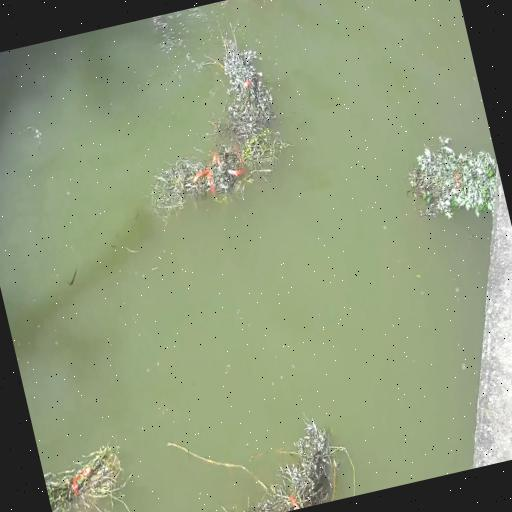twig: (126, 32, 294, 212), (212, 420, 359, 512), (400, 124, 510, 238), (44, 434, 138, 512)
